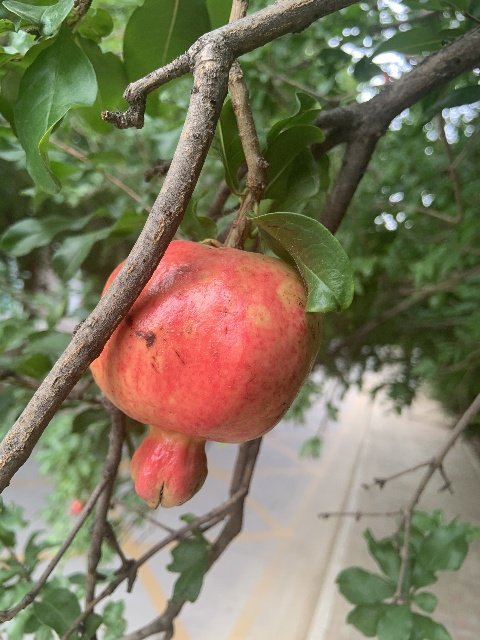ripe: (89, 240, 320, 509)
